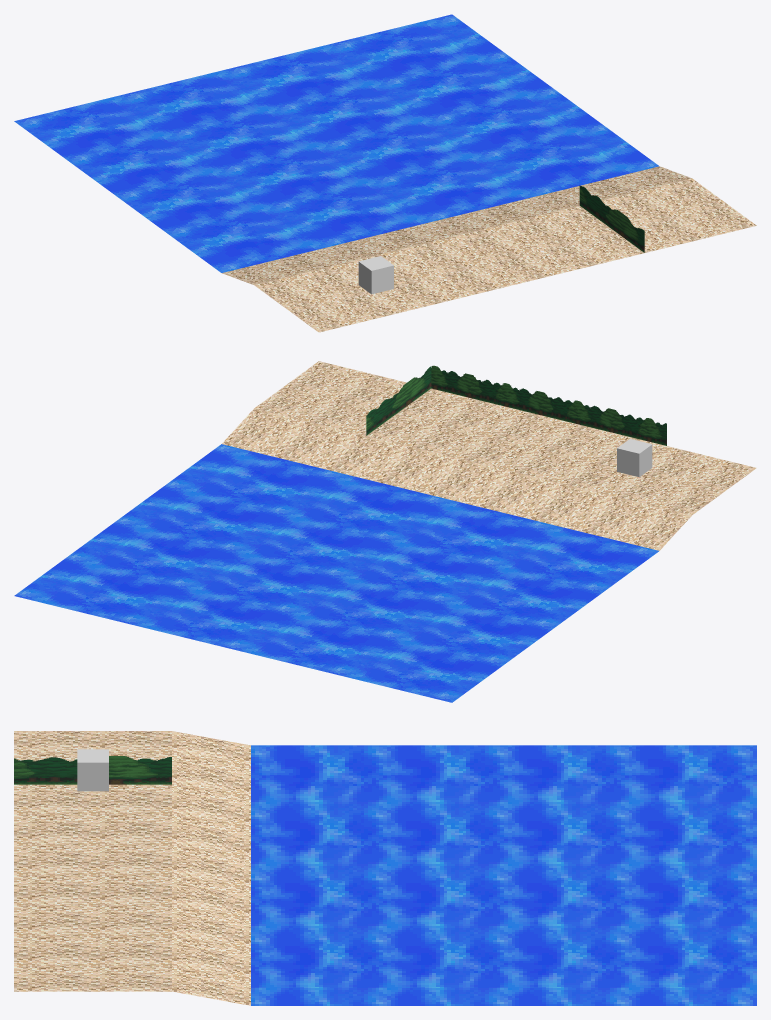
Rendered from beach1.glb.
3 renders of one model, top to bottom at view 1: azimuth 30°, elevation 25°; view 2: azimuth 150°, elevation 25°; view 3: azimuth 270°, elevation 25°, orthographic. The views are drawn at different scales.
Visible parts, largest first — view 1: Plane.001, Plane, Plane.004, Cube; view 2: Plane.001, Plane, Plane.004, Cube; view 3: Plane.001, Plane, Plane.004, Cube.
Part boxes in pixels (x1,y1,x2,y2): Plane.001: (14,14,659,272); Plane: (222,166,756,332); Plane.004: (579,185,644,252); Cube: (358,256,393,294); Plane.001: (14,444,658,702); Plane: (222,361,756,550); Plane.004: (366,365,666,445); Cube: (617,439,652,477); Plane.001: (251,745,756,1005); Plane: (14,731,250,1005); Plane.004: (14,756,171,784); Cube: (77,749,108,791).
Bounding box in the file's own units: 39 × 3 × 47.
Materials: 3 (3 with a texture image).
